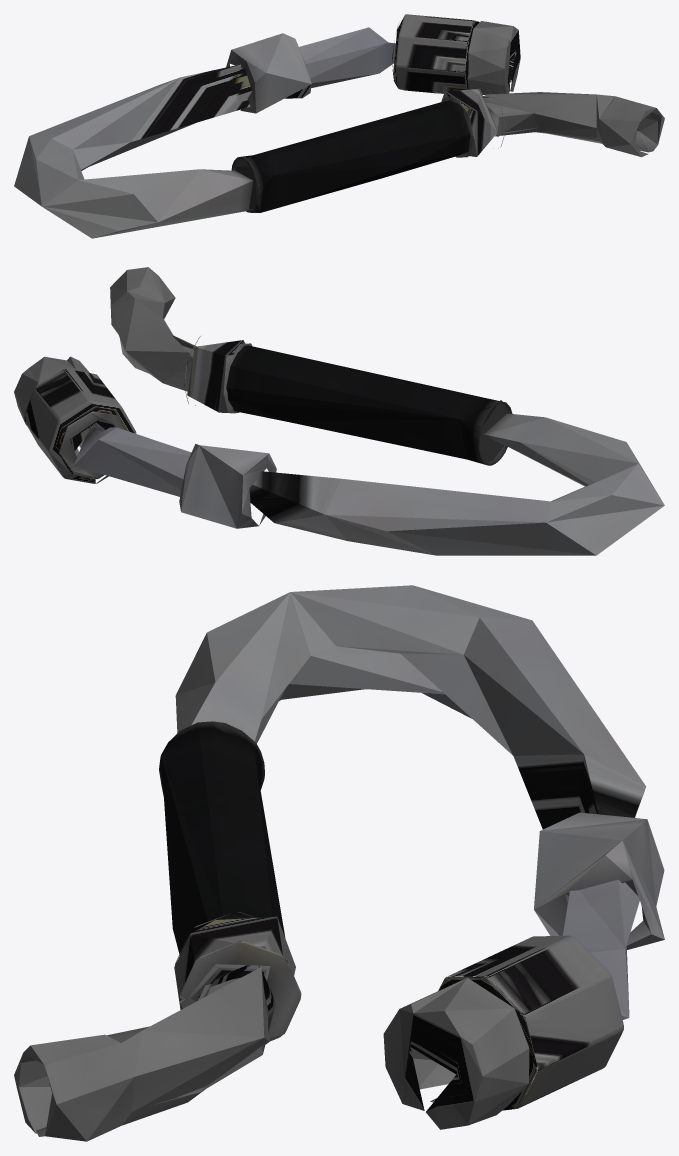
The model's file is consumable_hose_hydraulic_a03.glb.
The picture shows the model from 3 angles, top to bottom: view 1: azimuth 30°, elevation 25°; view 2: azimuth 150°, elevation 25°; view 3: azimuth 270°, elevation 25°; orthographic projection. The views are drawn at different scales.
Parts seen in each view (by area): view 1: geometry_0; view 2: geometry_0; view 3: geometry_0.
Part boxes in pixels (left/top/right/bottom): geometry_0: left=14, top=14, right=664, bottom=238; geometry_0: left=14, top=267, right=664, bottom=555; geometry_0: left=14, top=585, right=664, bottom=1141.
Size of the model in its own units: 0.42 by 0.053 by 0.2301.
Materials: 1 (1 with a texture image).
